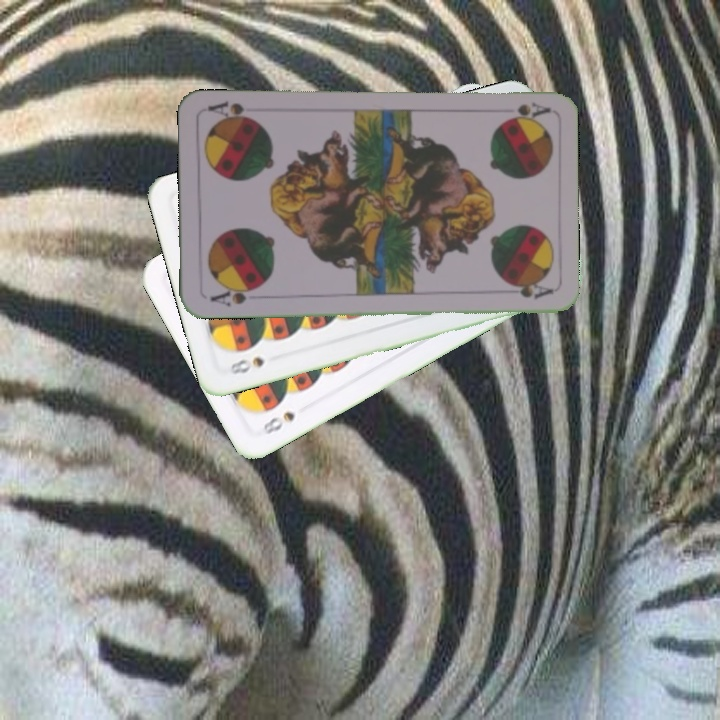S8: (259, 407, 298, 437), (225, 353, 267, 377)
SA: (207, 282, 263, 310), (502, 98, 552, 122)
